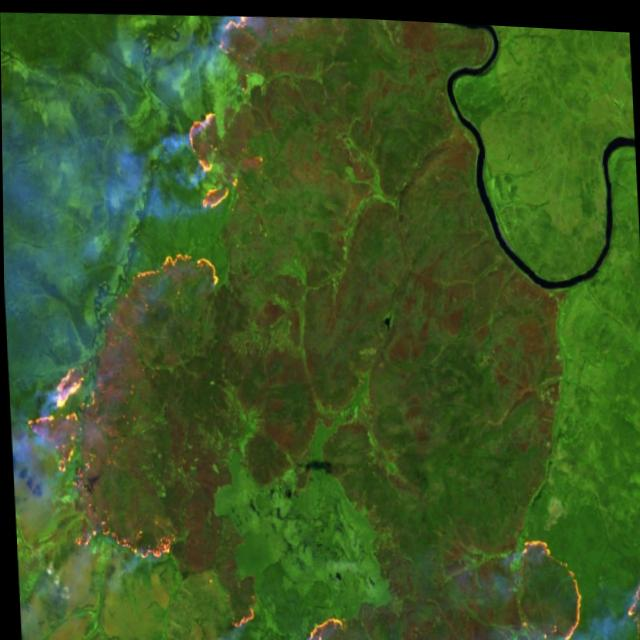fire: (113, 7, 275, 298), (18, 353, 189, 567), (505, 518, 640, 640), (225, 581, 352, 640)
